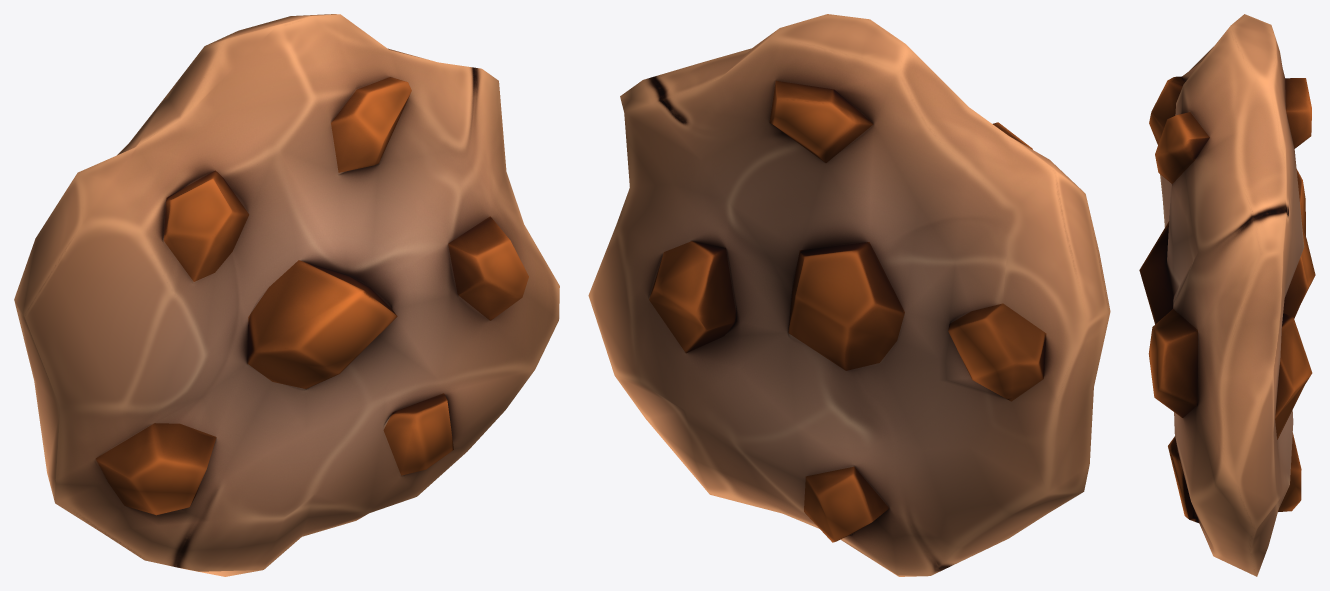
The model's file is light0.glb.
3 views of the same model, side by side, from view 1: azimuth 30°, elevation 25°; view 2: azimuth 150°, elevation 25°; view 3: azimuth 270°, elevation 25° (orthographic). The views are drawn at different scales.
Visible parts, largest first — view 1: cookie_02; view 2: cookie_02; view 3: cookie_02.
Boxes of the visible parts, box(x1,y1,x2,y2) form: cookie_02: box(14, 14, 559, 576); cookie_02: box(588, 14, 1110, 576); cookie_02: box(1139, 14, 1315, 576).
Size of the model in its own units: 0.4734 by 0.4685 by 0.1438.
1 material, 1 textured.
